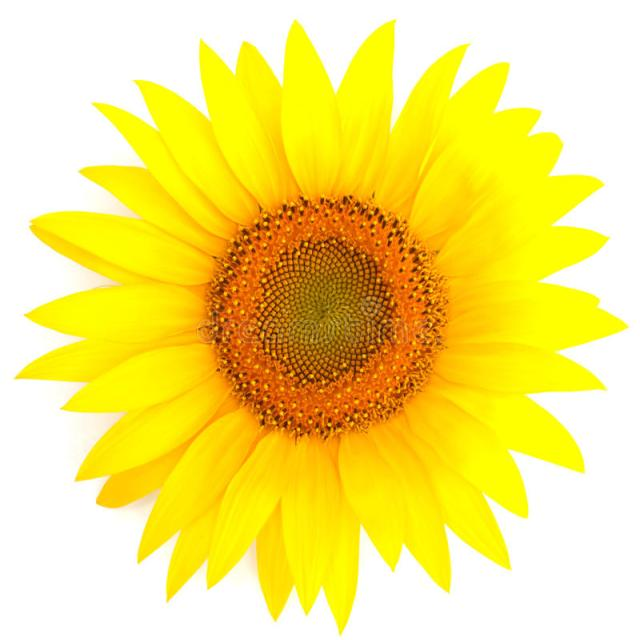sunflower: (21, 3, 606, 606)
